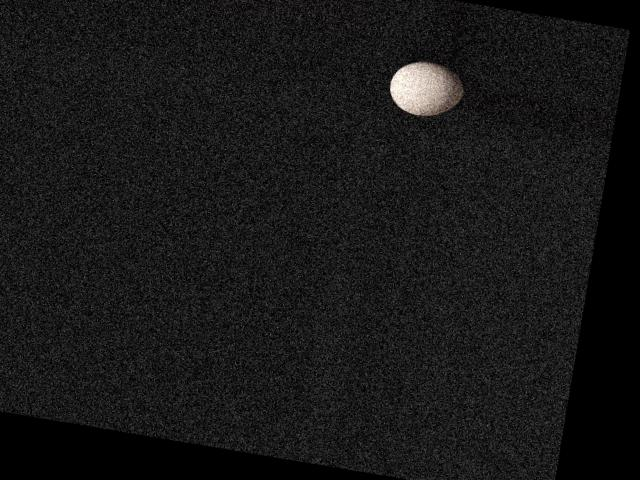egg: (385, 56, 466, 121)
